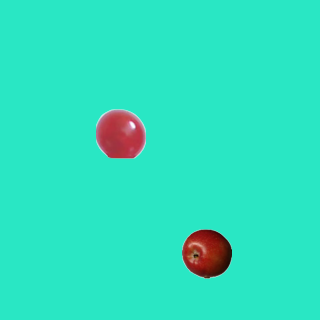Apple Braeburn: (181, 228, 231, 278)
Redcurrant: (95, 108, 145, 158)
